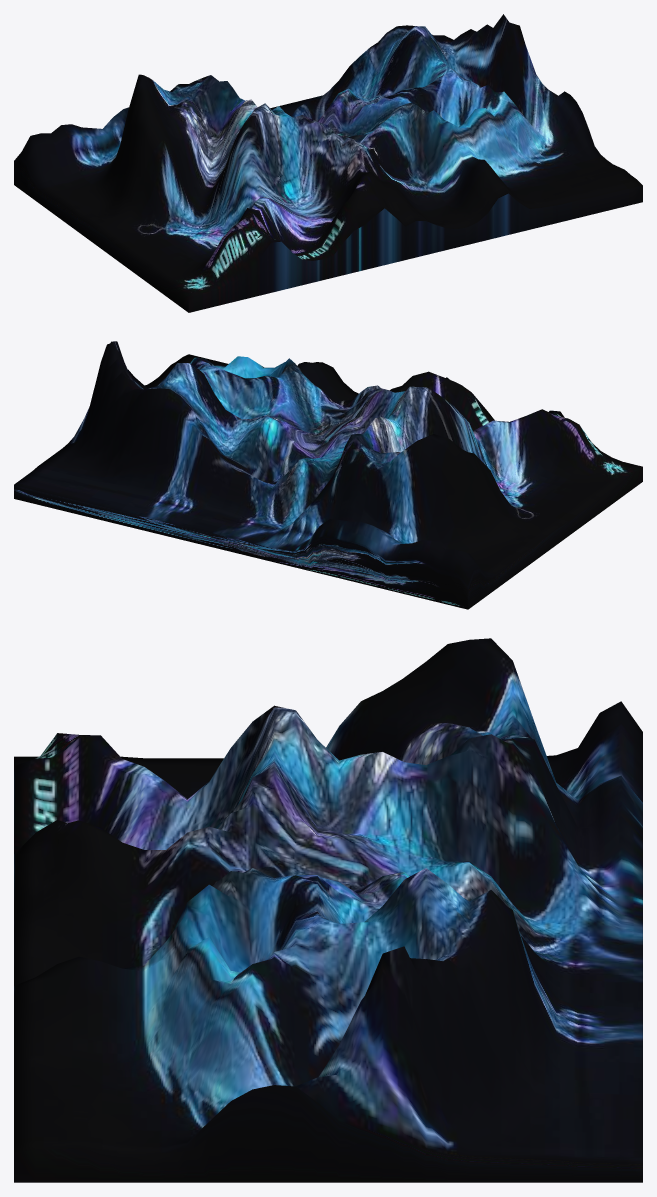
The model's file is MOUNT_05_Dragon_Mount.glb.
The picture shows the model from 3 angles, top to bottom: view 1: azimuth 30°, elevation 25°; view 2: azimuth 150°, elevation 25°; view 3: azimuth 270°, elevation 25°; orthographic projection. The views are drawn at different scales.
Visible parts, largest first — view 1: MOUNT_05_Dragon_Mount; view 2: MOUNT_05_Dragon_Mount; view 3: MOUNT_05_Dragon_Mount.
Part boxes in pixels (x1=…): MOUNT_05_Dragon_Mount: x1=14, y1=14, x2=642, y2=312; MOUNT_05_Dragon_Mount: x1=14, y1=341, x2=642, y2=609; MOUNT_05_Dragon_Mount: x1=14, y1=638, x2=642, y2=1182.
Bounding box in the file's own units: 2 × 0.51 × 1.33.
1 material, 1 textured.
